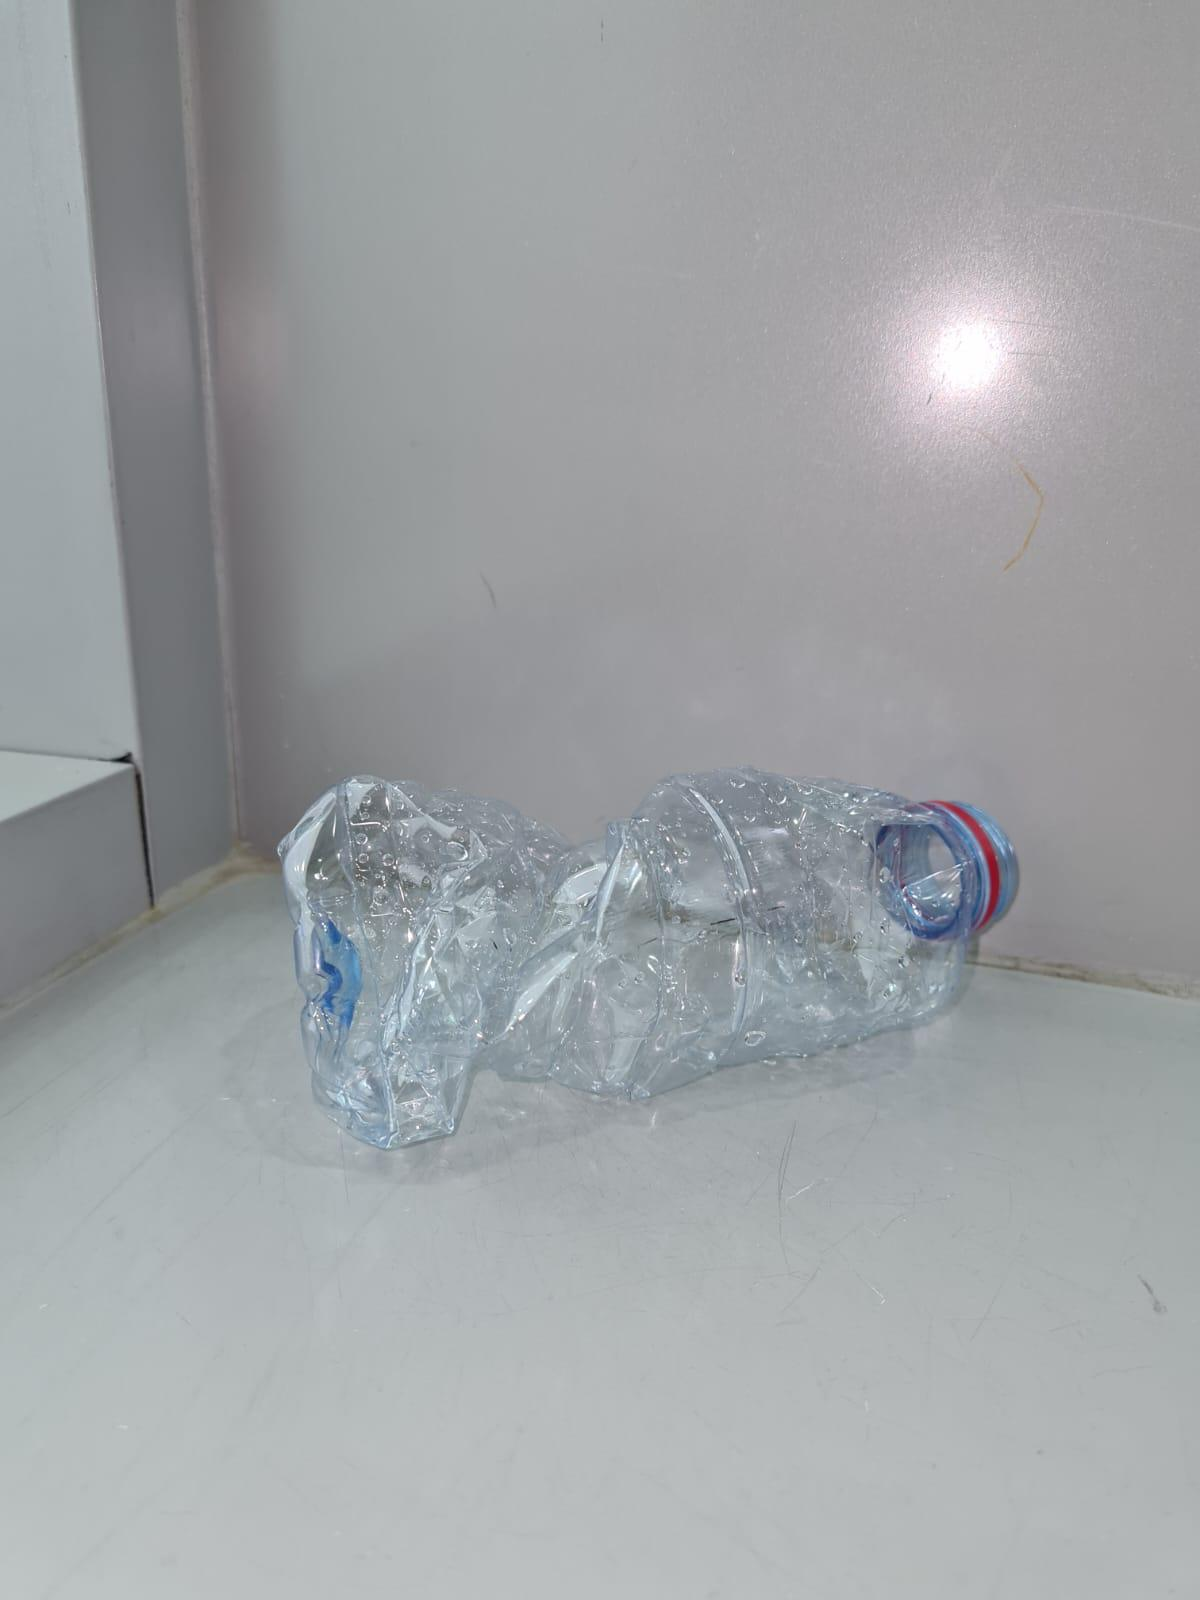bottle: (268, 777, 1040, 1107)
